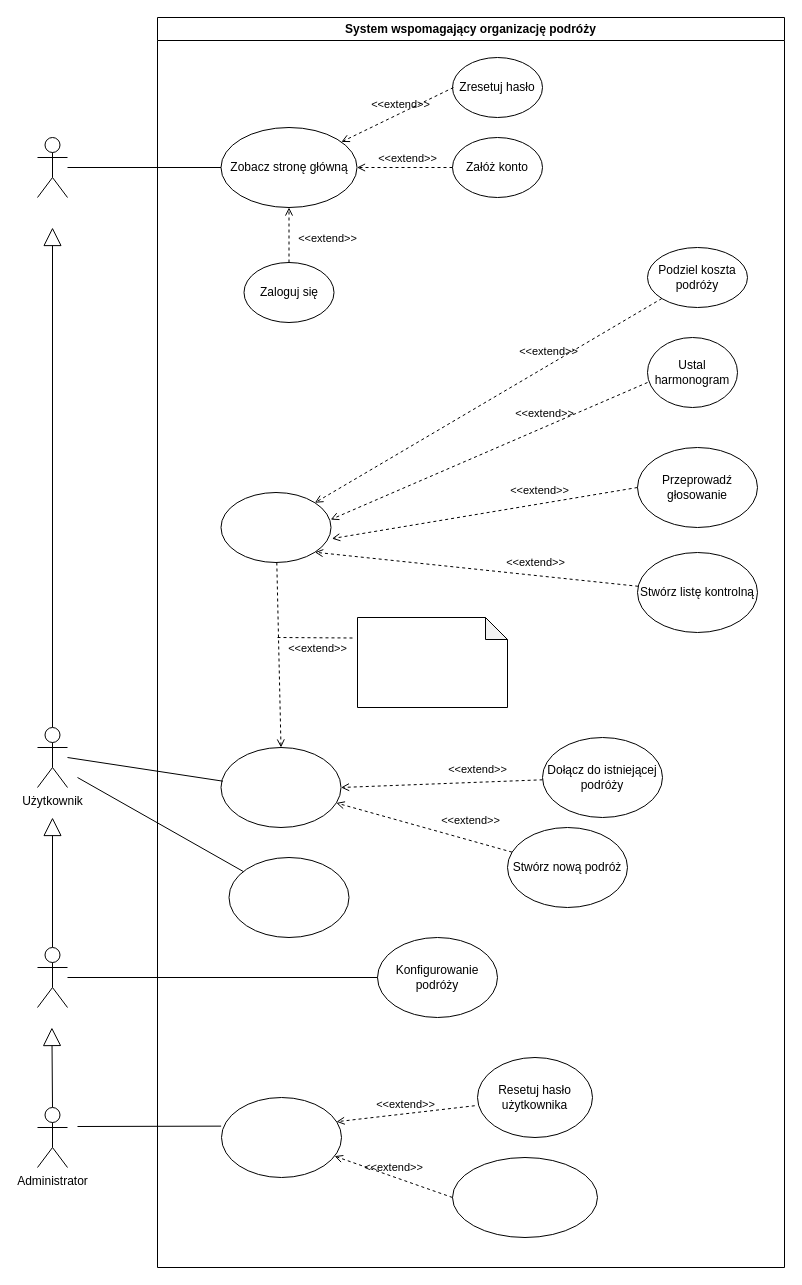
This 802x1285 diagram has some shape labels left out. The shapes that lost their labels are listed below. From the top down, each one's centre as x and y in pixels, then its label:
At pixel 52 167: "Gość".
At pixel 275 527: "Skorzystaj z modułów podróży".
At pixel 432 662: "warunek rozszerzenia: została stworzona przynajmniej jedna podróż".
At pixel 280 787: "Zobacz panel podróży".
At pixel 288 897: "Zmień ustawienia konta".
At pixel 52 977: "Organizator".
At pixel 281 1137: "Zarządzaj serwisem".
At pixel 525 1197: "Zarządzanie blokadami kont".
